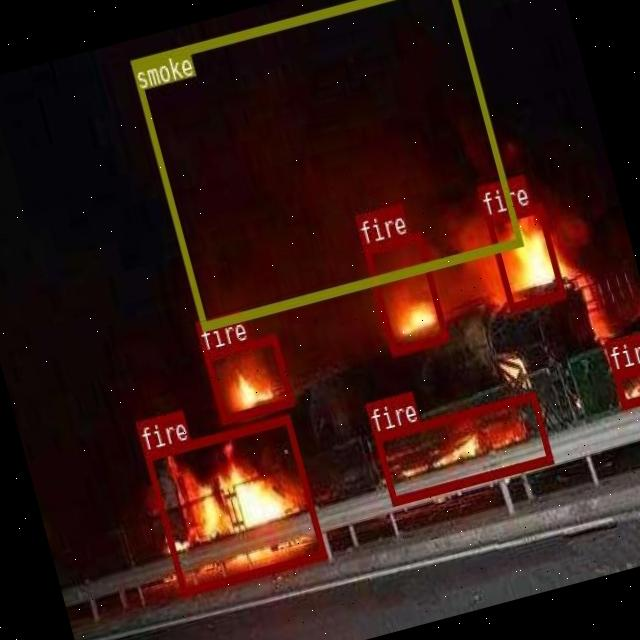fire: (142, 414, 326, 596), (372, 390, 552, 504), (362, 230, 448, 354), (484, 203, 564, 310), (202, 334, 292, 421), (612, 362, 640, 406)
smoke: (129, 0, 521, 329)
